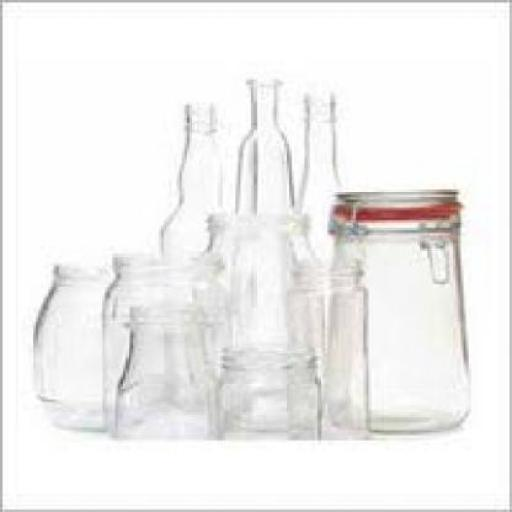glass: (327, 186, 469, 428), (100, 253, 228, 428), (202, 213, 322, 348), (287, 256, 368, 438), (115, 304, 215, 432), (33, 261, 118, 400), (212, 343, 318, 435), (159, 100, 223, 248), (232, 77, 292, 210), (296, 92, 344, 258), (48, 402, 123, 430)
